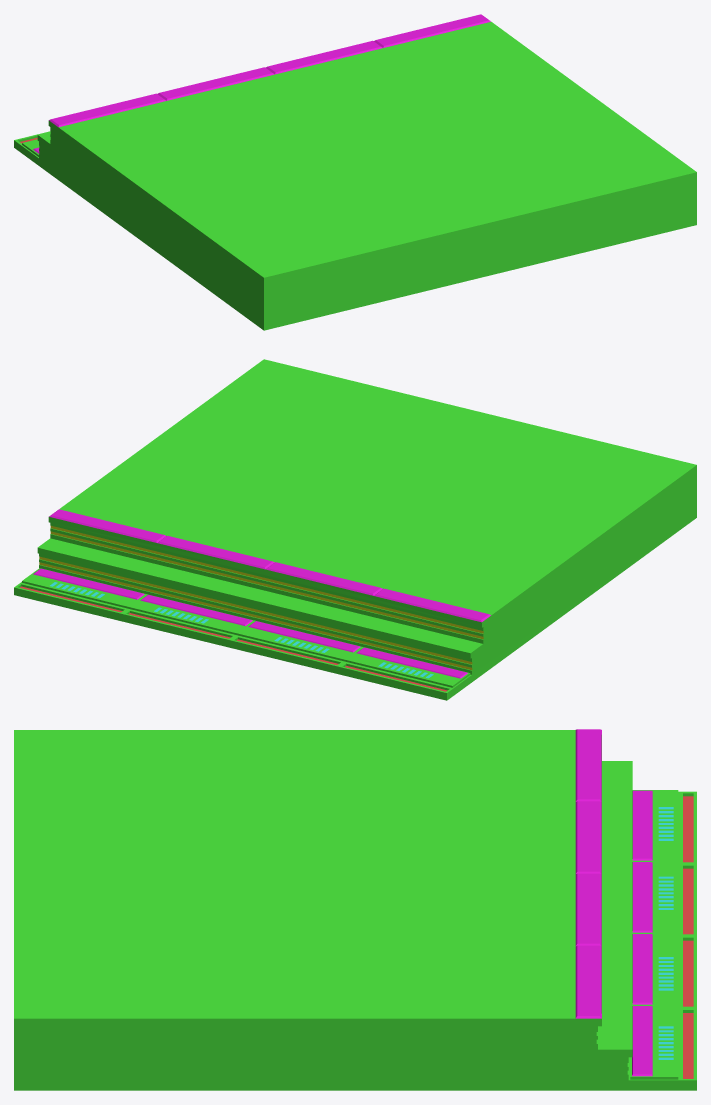
The model's file is Floor_10_Side.fbx.
The picture shows the model from 3 angles, top to bottom: view 1: azimuth 30°, elevation 25°; view 2: azimuth 150°, elevation 25°; view 3: azimuth 270°, elevation 25°; orthographic projection. The views are drawn at different scales.
Parts seen in each view (by area): view 1: Floor_10_Side; view 2: Floor_10_Side; view 3: Floor_10_Side.
Boxes of the visible parts, <box> form: Floor_10_Side: <box>14,14,696,330</box>; Floor_10_Side: <box>14,359,696,700</box>; Floor_10_Side: <box>14,729,696,1090</box>.
Size of what is drawn, in the model's own units: 457 by 54.62 by 457.
